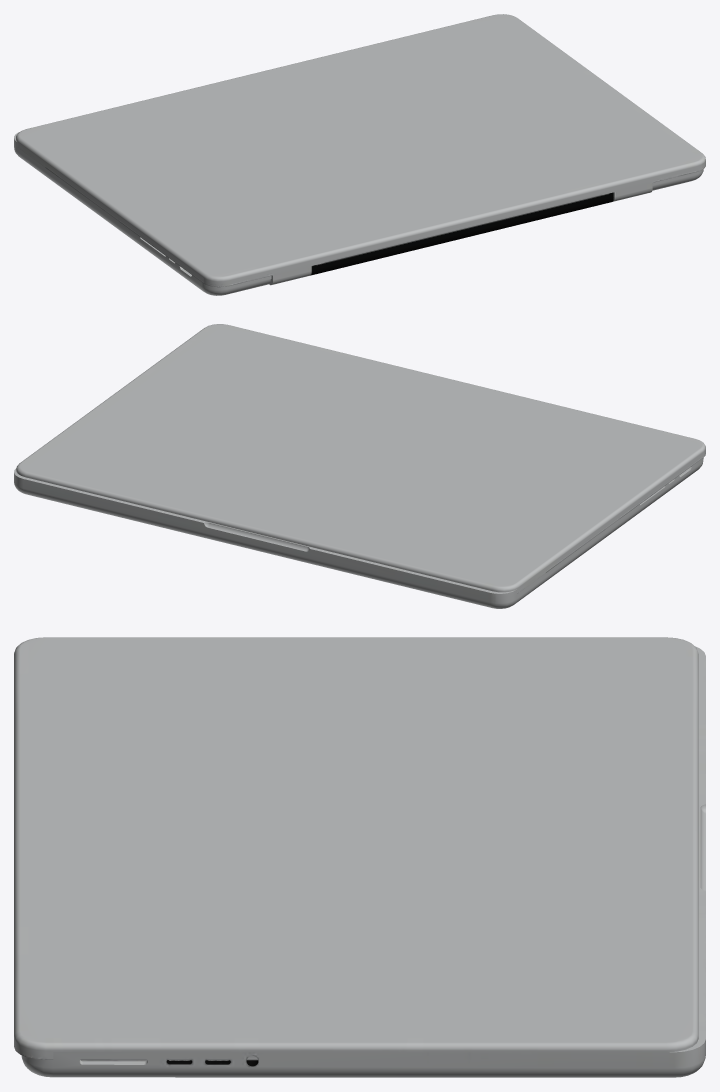
The model's file is laptop.glb.
3 renders of one model, top to bottom at view 1: azimuth 30°, elevation 25°; view 2: azimuth 150°, elevation 25°; view 3: azimuth 270°, elevation 25°, orthographic. The views are drawn at different scales.
Parts seen in each view (by area): view 1: Lid, Base; view 2: Lid, Base; view 3: Lid, Base.
Boxes of the visible parts, x1,y1,x2,y2 form: Lid: (16, 14, 705, 287); Base: (14, 132, 703, 295); Lid: (16, 324, 705, 593); Base: (14, 458, 703, 608); Lid: (14, 637, 698, 1060); Base: (21, 646, 705, 1077).
Bounding box in the file's own units: 0.3987 × 0.0183 × 0.2845.
Materials: 1 (1 with a texture image).
